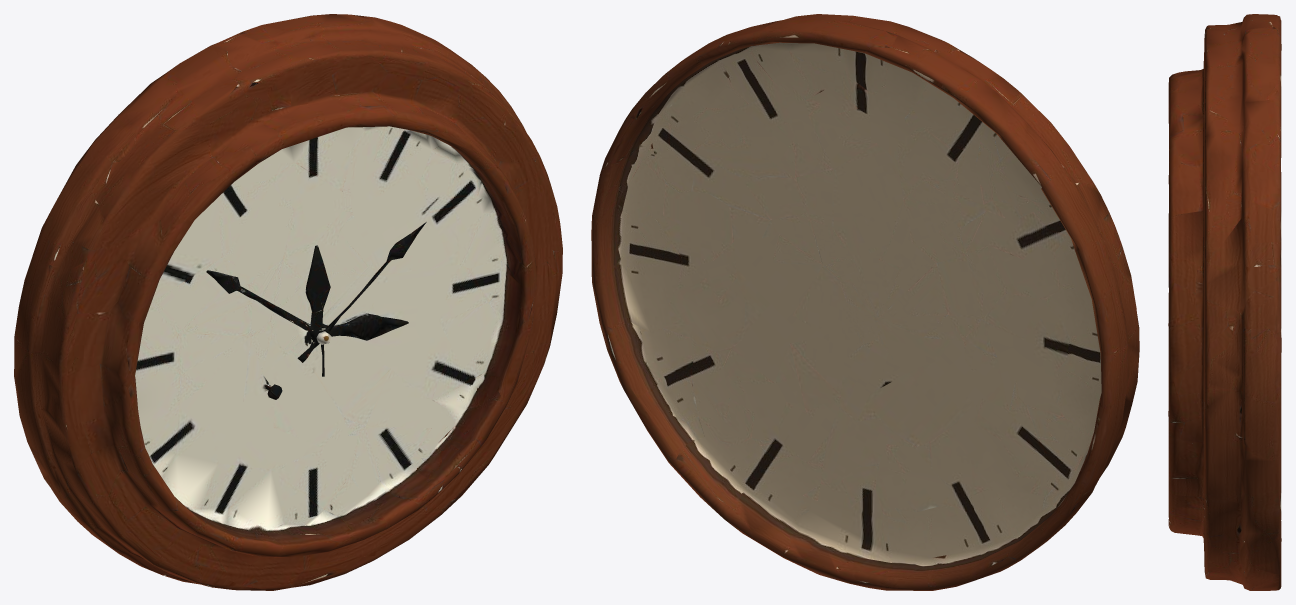
The model's file is wallClock.glb.
The picture shows the model from 3 angles, left to right: view 1: azimuth 30°, elevation 25°; view 2: azimuth 150°, elevation 25°; view 3: azimuth 270°, elevation 25°; orthographic projection. The views are drawn at different scales.
Bounding box in the file's own units: 1.9 × 1.9 × 0.373.
Materials: 1 (1 with a texture image).
